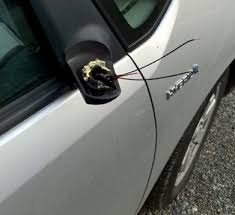Broken-glass: (80, 43, 121, 104)
